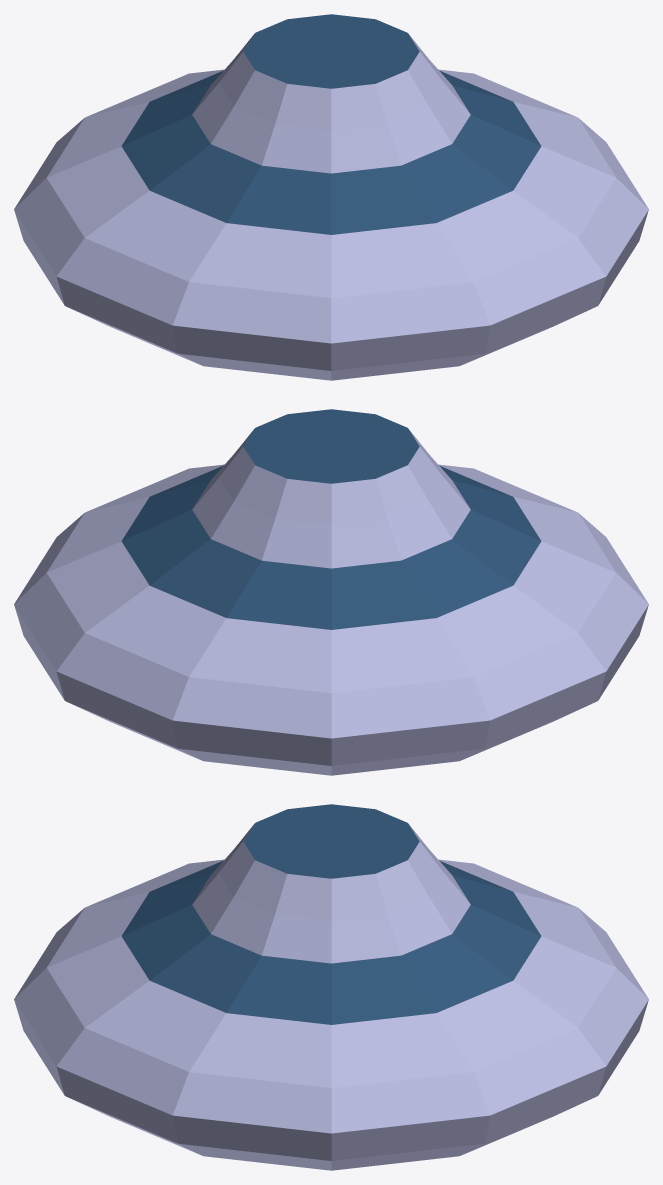
File: ufoDisc.fbx
The picture shows the model from 3 angles, top to bottom: view 1: azimuth 30°, elevation 25°; view 2: azimuth 150°, elevation 25°; view 3: azimuth 270°, elevation 25°; orthographic projection.
Parts seen in each view (by area): view 1: Cylinder; view 2: Cylinder; view 3: Cylinder.
Part boxes in pixels (x1=…): Cylinder: x1=14, y1=14, x2=648, y2=380; Cylinder: x1=14, y1=409, x2=648, y2=775; Cylinder: x1=14, y1=804, x2=648, y2=1170.
Bounding box in the file's own units: 228 × 100 × 228.
